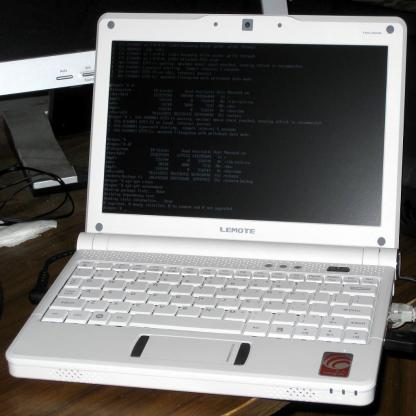board: (5, 9, 408, 406)
